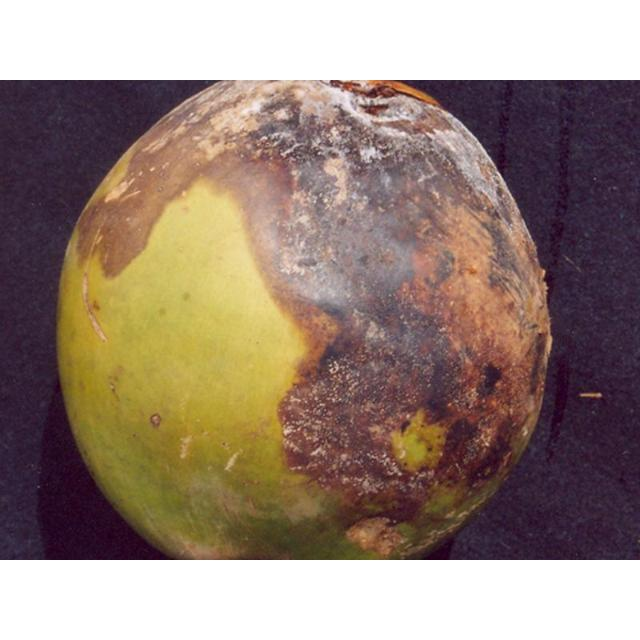damaged: (58, 80, 550, 559)
